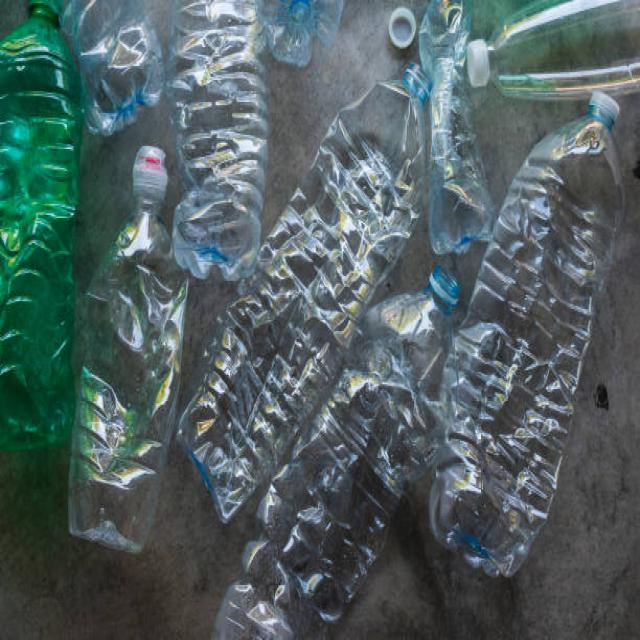plastic: (9, 21, 576, 566)
